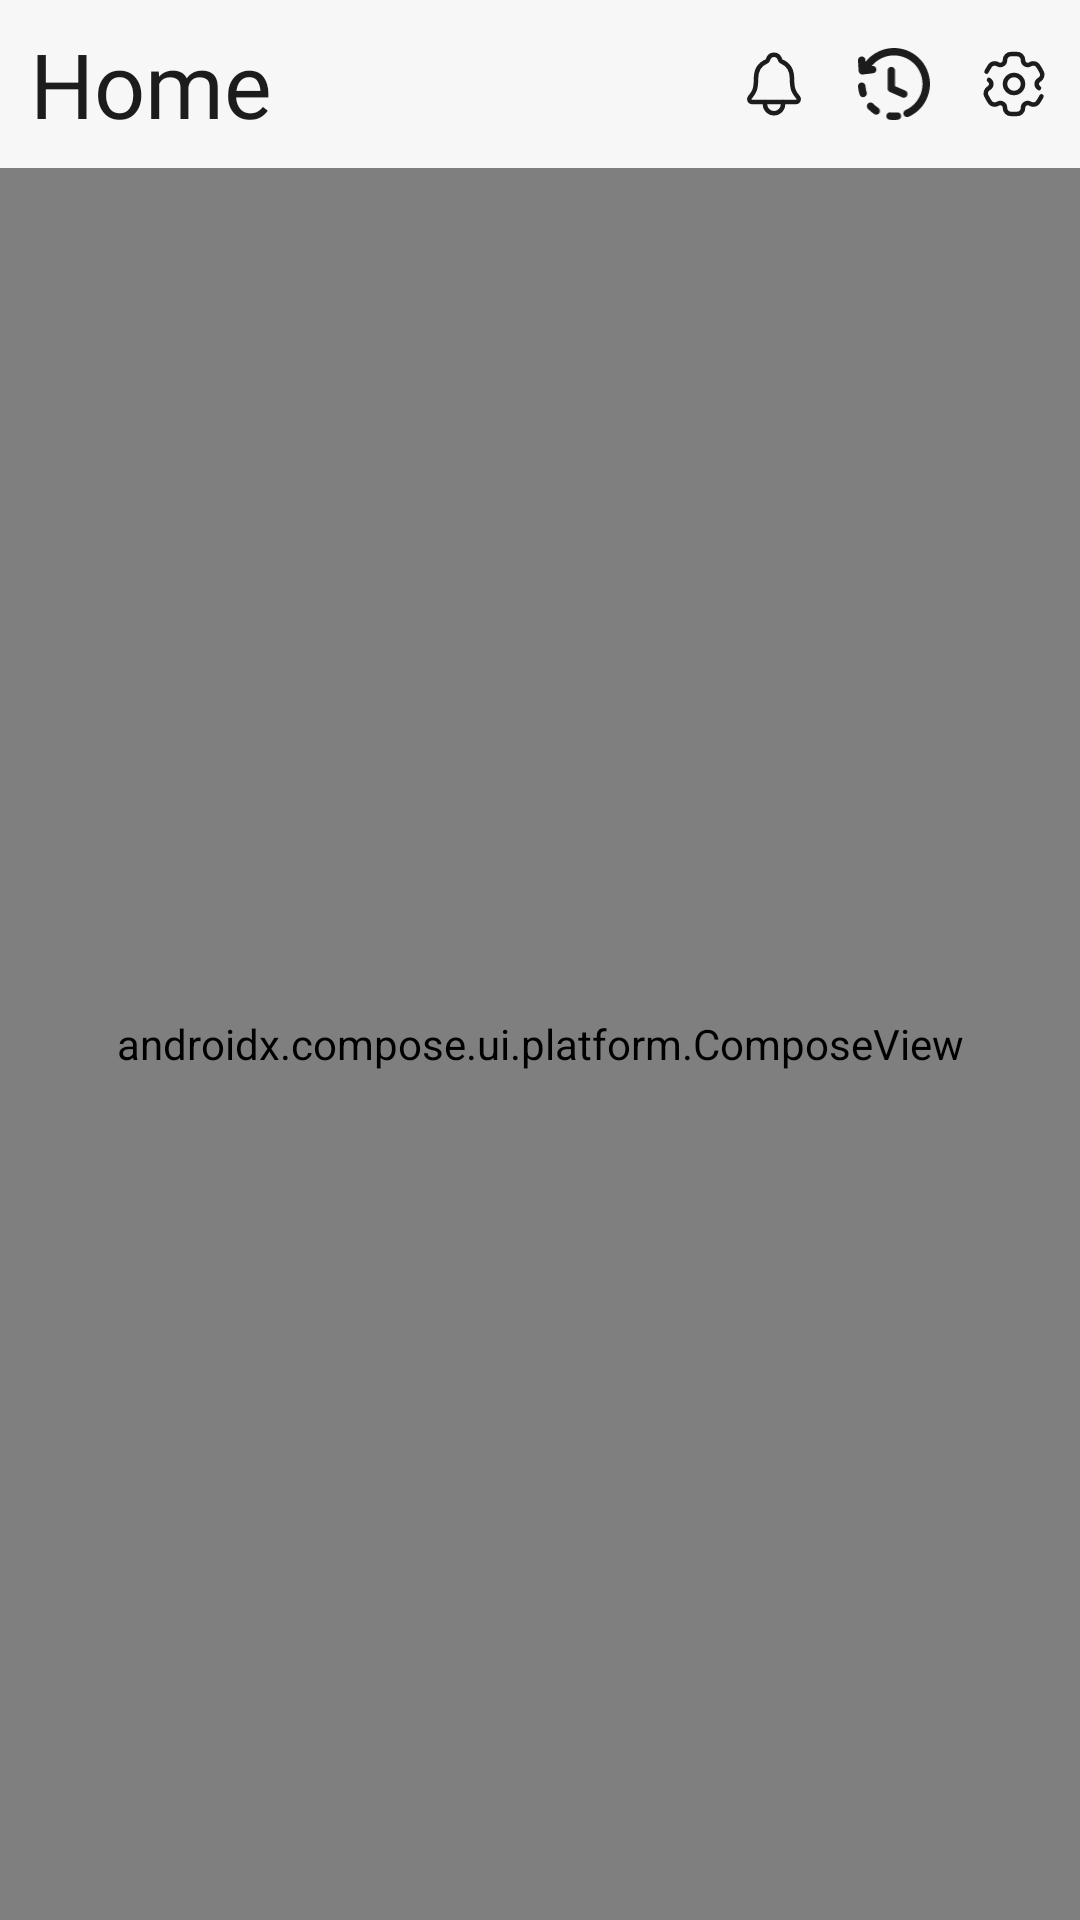

Locate icon controls on the screen. Image size 1080×1920, boxes as (left=x1, top=y1, right=x2, bottom=y2).
home settings: (left=983, top=51, right=1045, bottom=117)
